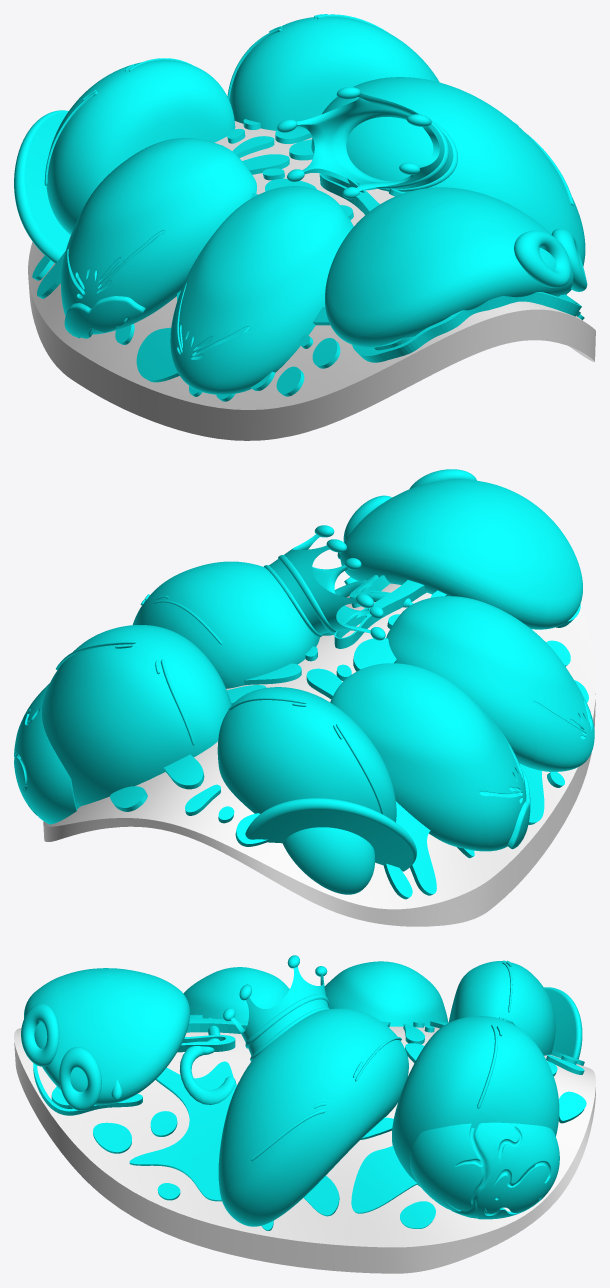
Rendered from rimuru-oval-full.glb.
3 views of the same model, one above another, from view 1: azimuth 30°, elevation 25°; view 2: azimuth 150°, elevation 25°; view 3: azimuth 270°, elevation 25° (orthographic). The views are drawn at different scales.
Bounding box in the file's own units: 0.0149 × 0.00895 × 0.0201.
